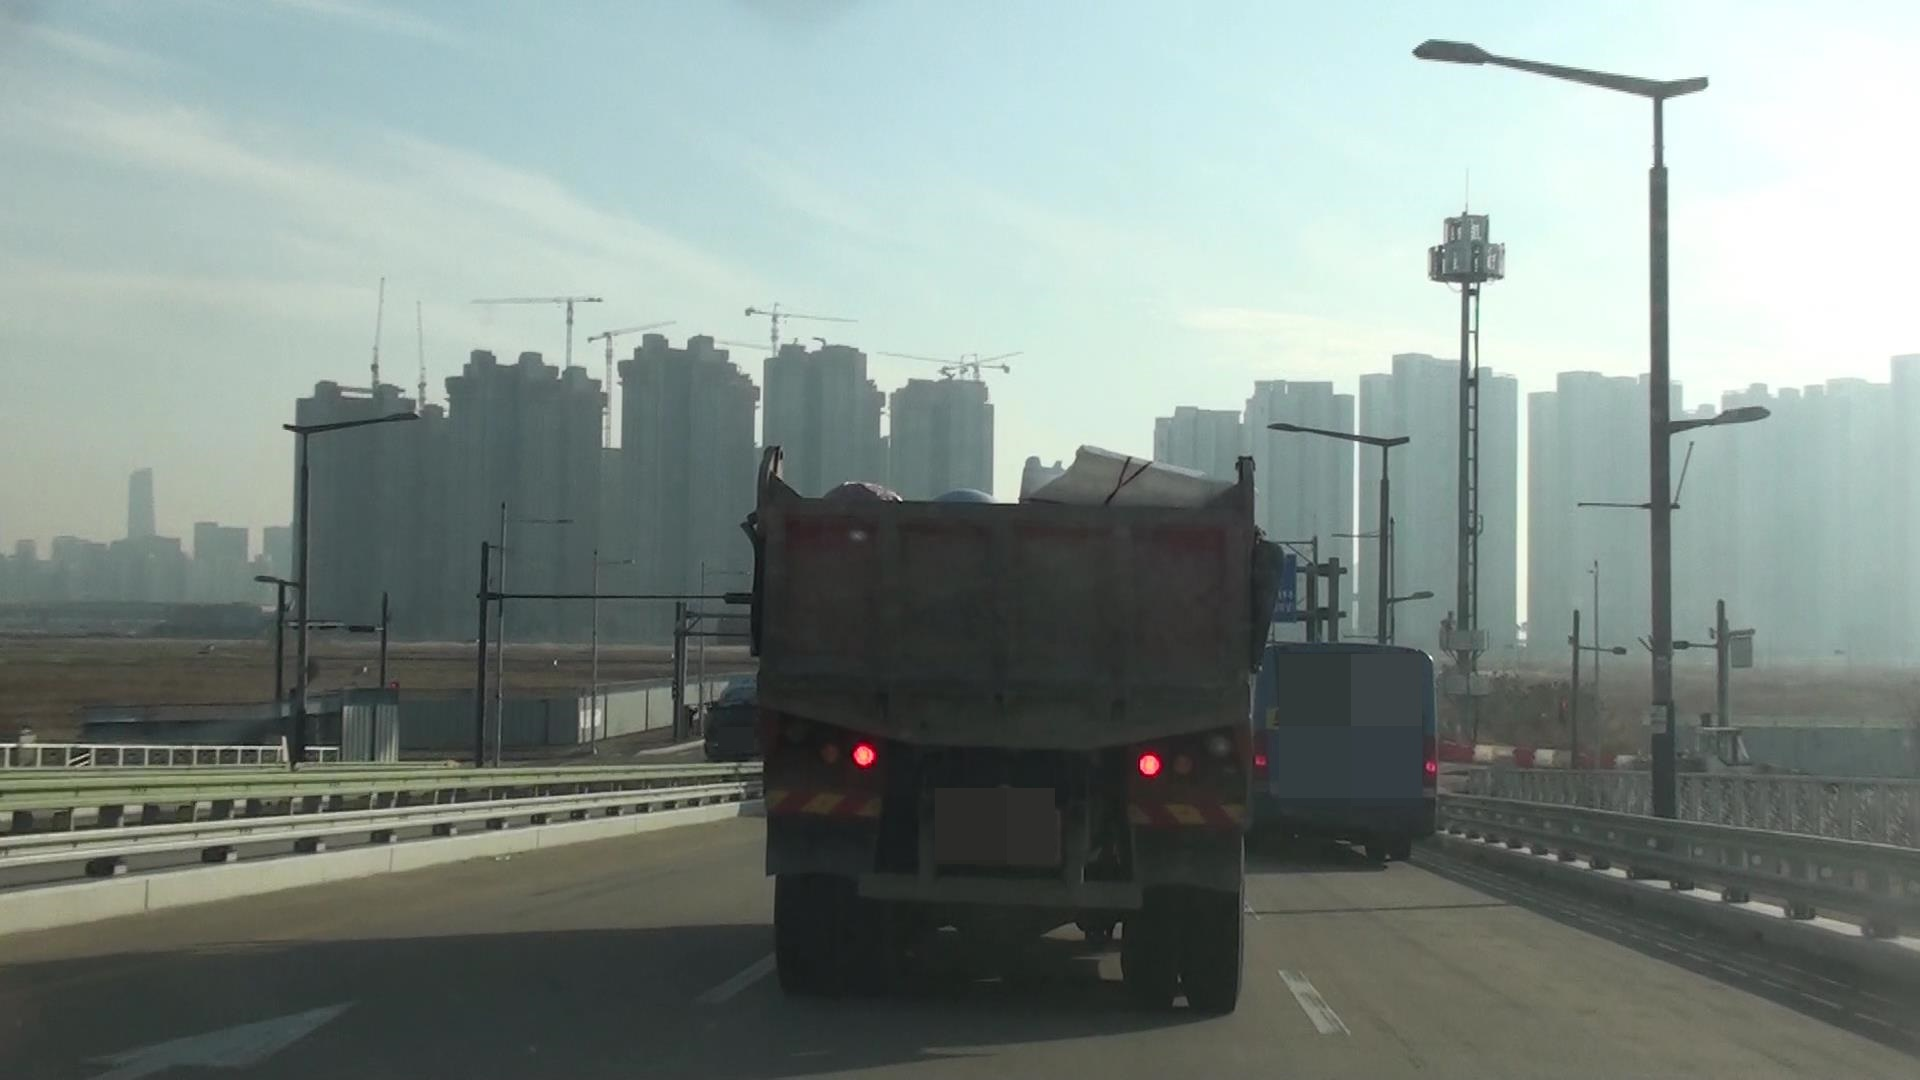불법차량: (740, 445, 1285, 1014)
